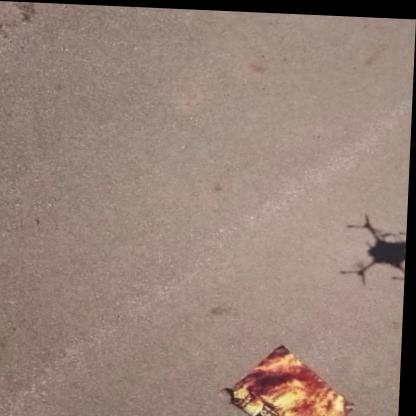fire-poster: (222, 338, 363, 416)
